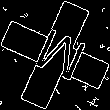M_SW: (24, 22, 86, 88)
